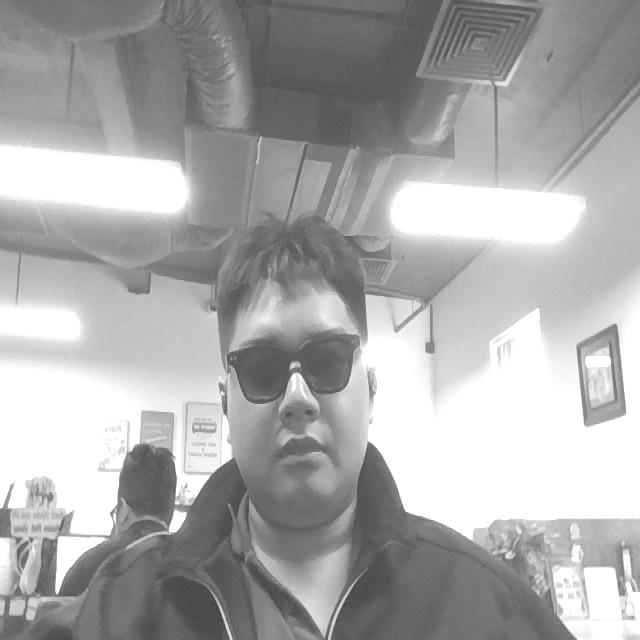fake: (226, 325, 361, 398)
real: (220, 239, 375, 540)
